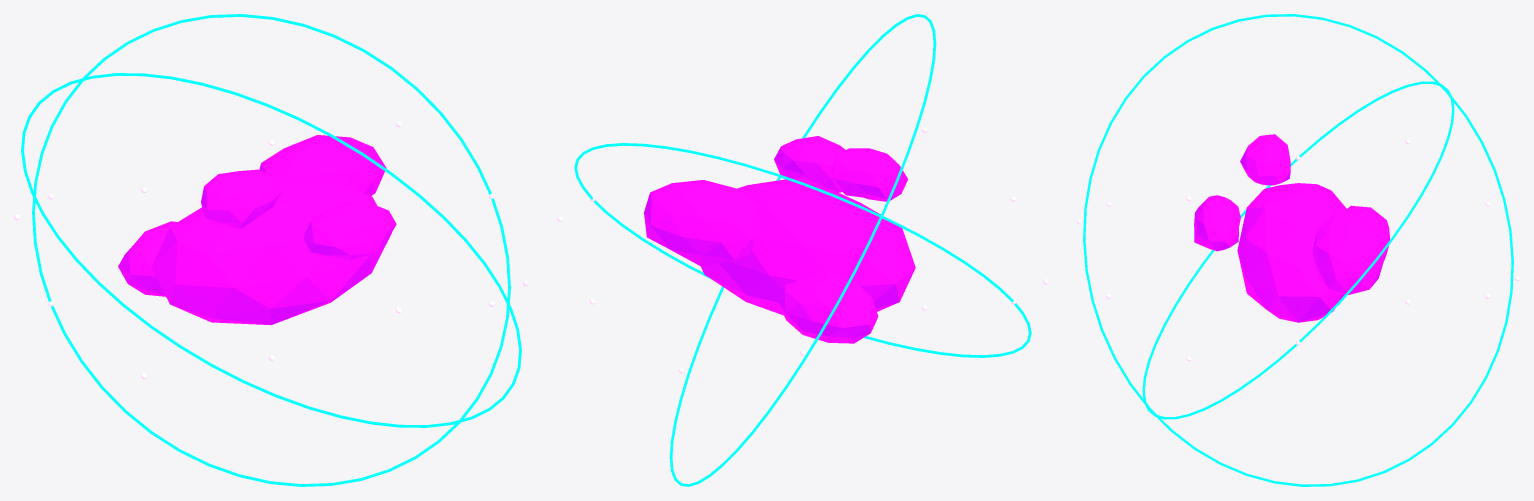
Rendered from validator_node.glb.
3 renders of one model, left to right at view 1: azimuth 30°, elevation 25°; view 2: azimuth 150°, elevation 25°; view 3: azimuth 270°, elevation 25°, orthographic. The views are drawn at different scales.
Visible parts, largest first — view 1: Val_Shard_0, Val_OrbitRing_0, Val_Shard_1, Val_OrbitRing_1, Val_Shard_3, Val_Shard_4, Val_Shard_2; view 2: Val_Shard_0, Val_Shard_1, Val_Shard_2, Val_OrbitRing_1, Val_Shard_4, Val_OrbitRing_0, Val_Shard_3; view 3: Val_Shard_0, Val_Shard_1, Val_OrbitRing_1, Val_OrbitRing_0, Val_Shard_3, Val_Shard_4, Val_Shard_2.
Part boxes in pixels (bbox=[...]): Val_Shard_0: bbox=[151, 175, 391, 325]; Val_OrbitRing_0: bbox=[32, 14, 510, 486]; Val_Shard_1: bbox=[259, 135, 386, 195]; Val_OrbitRing_1: bbox=[21, 73, 521, 427]; Val_Shard_3: bbox=[303, 200, 396, 260]; Val_Shard_4: bbox=[201, 169, 282, 228]; Val_Shard_2: bbox=[118, 221, 177, 296]; Val_Shard_0: bbox=[701, 176, 915, 315]; Val_Shard_1: bbox=[644, 180, 759, 266]; Val_Shard_2: bbox=[777, 274, 878, 343]; Val_OrbitRing_1: bbox=[669, 14, 936, 486]; Val_Shard_4: bbox=[832, 148, 908, 201]; Val_OrbitRing_0: bbox=[574, 143, 1031, 357]; Val_Shard_3: bbox=[774, 136, 845, 192]; Val_Shard_0: bbox=[1237, 183, 1348, 322]; Val_Shard_1: bbox=[1312, 211, 1385, 294]; Val_OrbitRing_1: bbox=[1083, 14, 1513, 486]; Val_OrbitRing_0: bbox=[1142, 81, 1454, 419]; Val_Shard_3: bbox=[1194, 195, 1240, 251]; Val_Shard_4: bbox=[1240, 134, 1290, 185]; Val_Shard_2: bbox=[1347, 205, 1390, 260].
Bounding box in the file's own units: 7.08 × 6.62 × 7.08.
